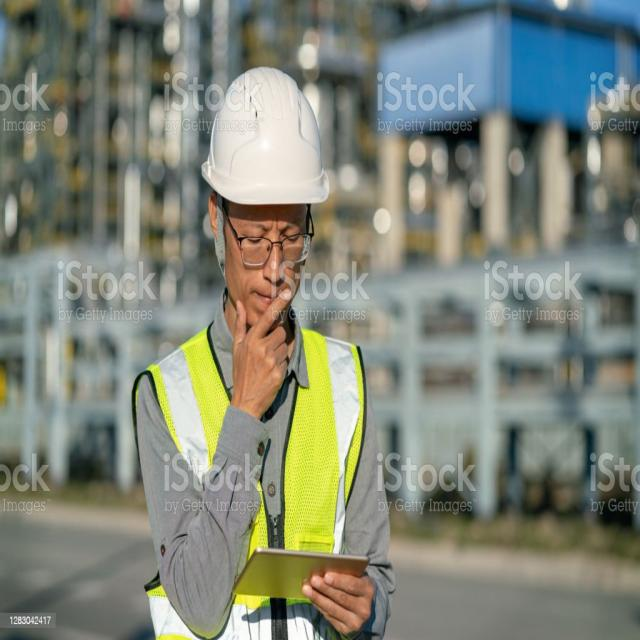helmet: (190, 71, 338, 213)
no-goggles: (220, 222, 318, 272)
vest: (135, 338, 375, 612)
